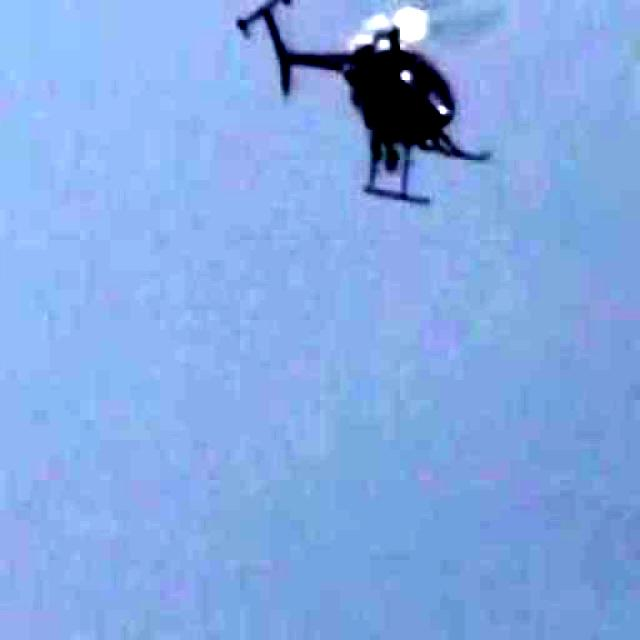drone: (209, 0, 555, 230)
